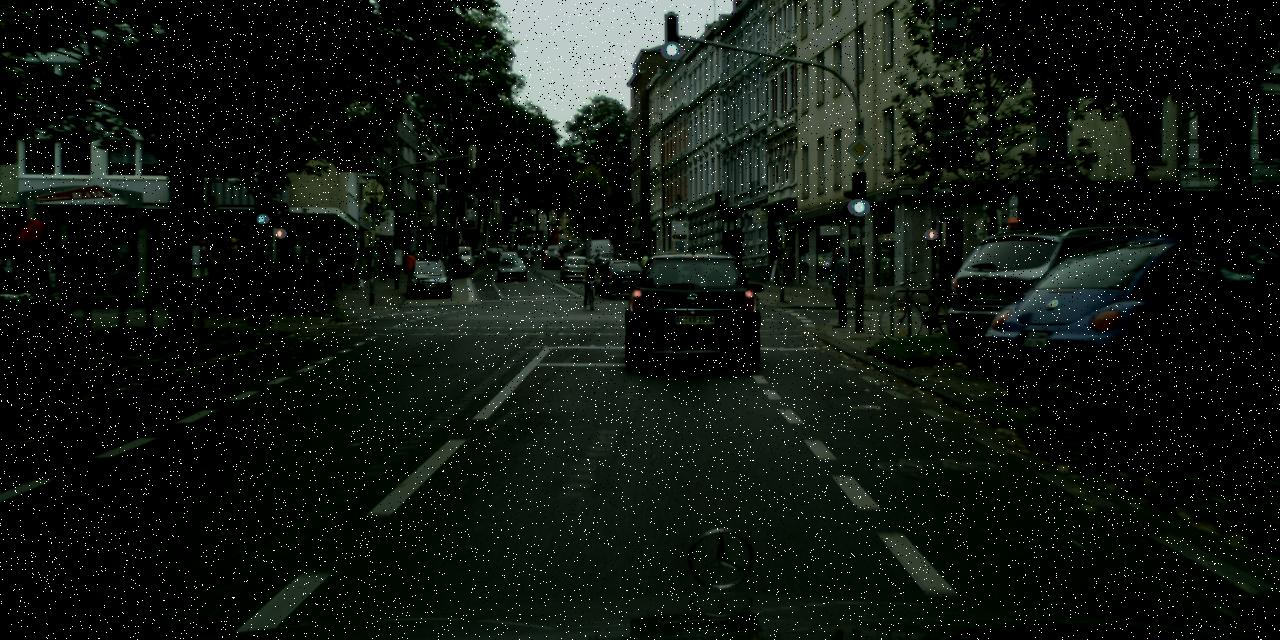ped: (240, 244, 272, 326), (823, 247, 856, 326), (253, 254, 282, 324), (582, 259, 600, 303), (0, 257, 11, 312), (349, 258, 361, 288), (378, 252, 390, 280), (641, 253, 651, 279), (399, 249, 408, 272), (406, 252, 415, 272), (459, 238, 472, 246), (416, 251, 422, 268), (429, 250, 437, 259), (411, 251, 416, 265)
